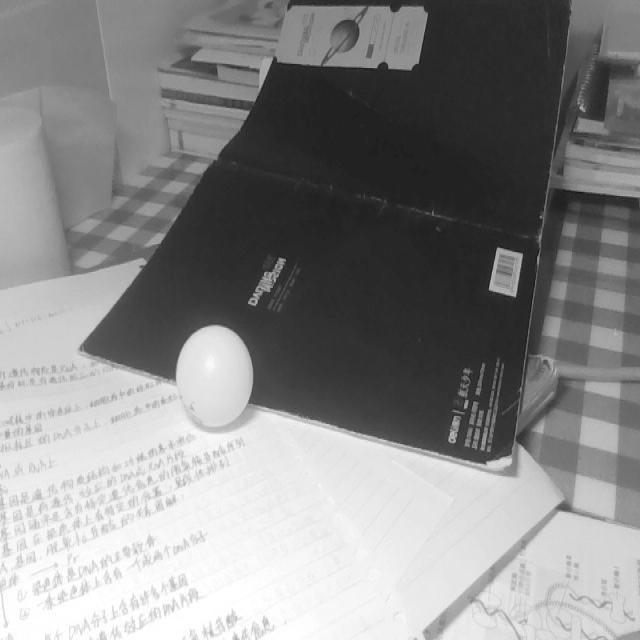ping-pong-ball: (175, 329, 253, 426)
